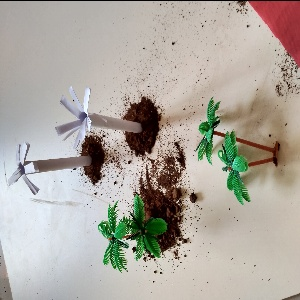plant: (187, 91, 286, 201), (88, 199, 175, 266)
weed: (43, 91, 159, 149), (5, 145, 104, 198)
